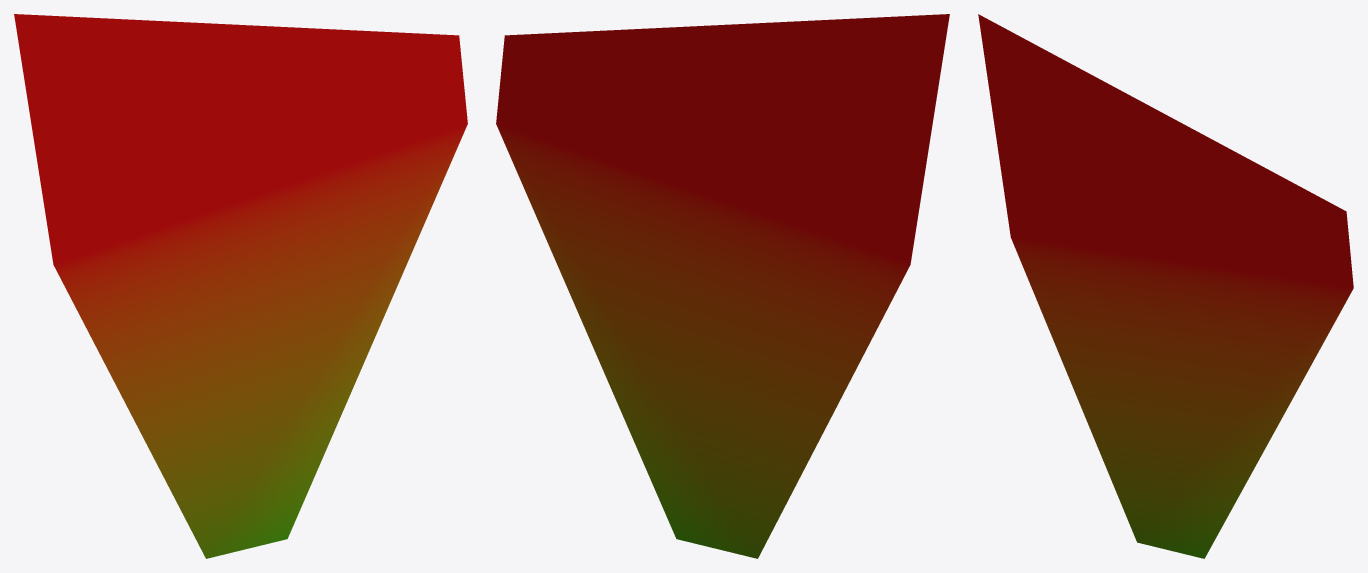
File: Cane Palm_LOD3_Var2_siBmK.fbx
3 renders of one model, left to right at view 1: azimuth 30°, elevation 25°; view 2: azimuth 150°, elevation 25°; view 3: azimuth 330°, elevation 25°, orthographic. The views are drawn at different scales.
Parts seen in each view (by area): view 1: _735f_Var2_LOD3; view 2: _735f_Var2_LOD3; view 3: _735f_Var2_LOD3.
Boxes of the visible parts, x1=… form: _735f_Var2_LOD3: x1=14, y1=14, x2=467, y2=558; _735f_Var2_LOD3: x1=496, y1=14, x2=949, y2=558; _735f_Var2_LOD3: x1=978, y1=14, x2=1353, y2=558.
Bounding box in the file's own units: 30.09 × 37.5 × 6.26e-06.
